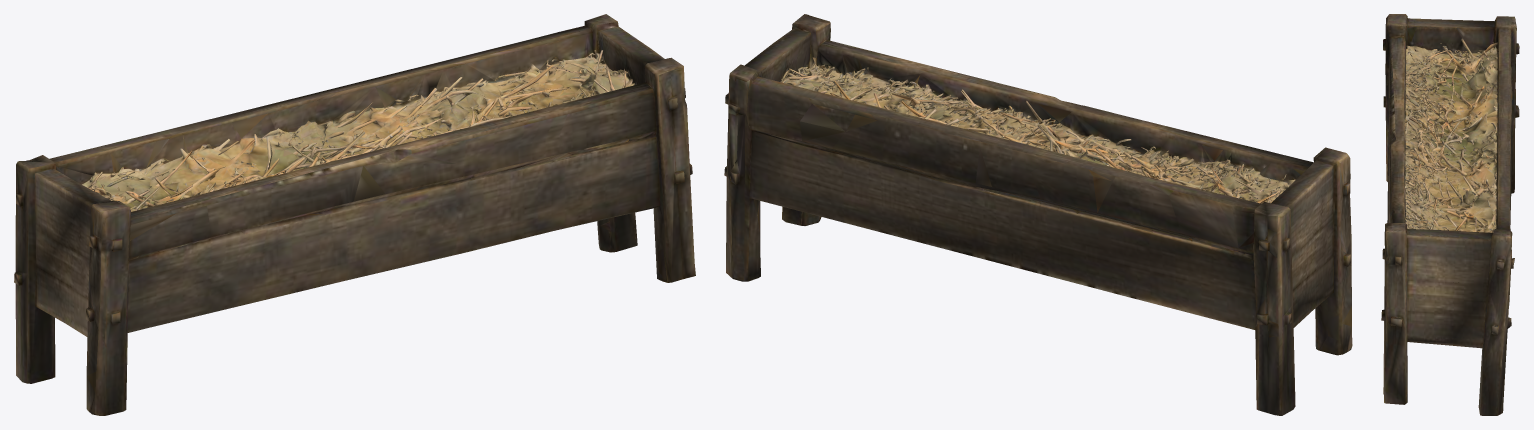
Rendered from straight-feeding-trough.glb.
3 renders of one model, left to right at view 1: azimuth 30°, elevation 25°; view 2: azimuth 150°, elevation 25°; view 3: azimuth 270°, elevation 25°, orthographic. The views are drawn at different scales.
Visible parts, largest first — view 1: geometry_0; view 2: geometry_0; view 3: geometry_0.
Boxes of the visible parts, x1,y1,x2,y2 form: geometry_0: (14,14,695,415); geometry_0: (724,14,1352,415); geometry_0: (1381,14,1519,415).
Size of the model in its own units: 1.8 by 0.6471 by 0.45.
Materials: 1 (1 with a texture image).
